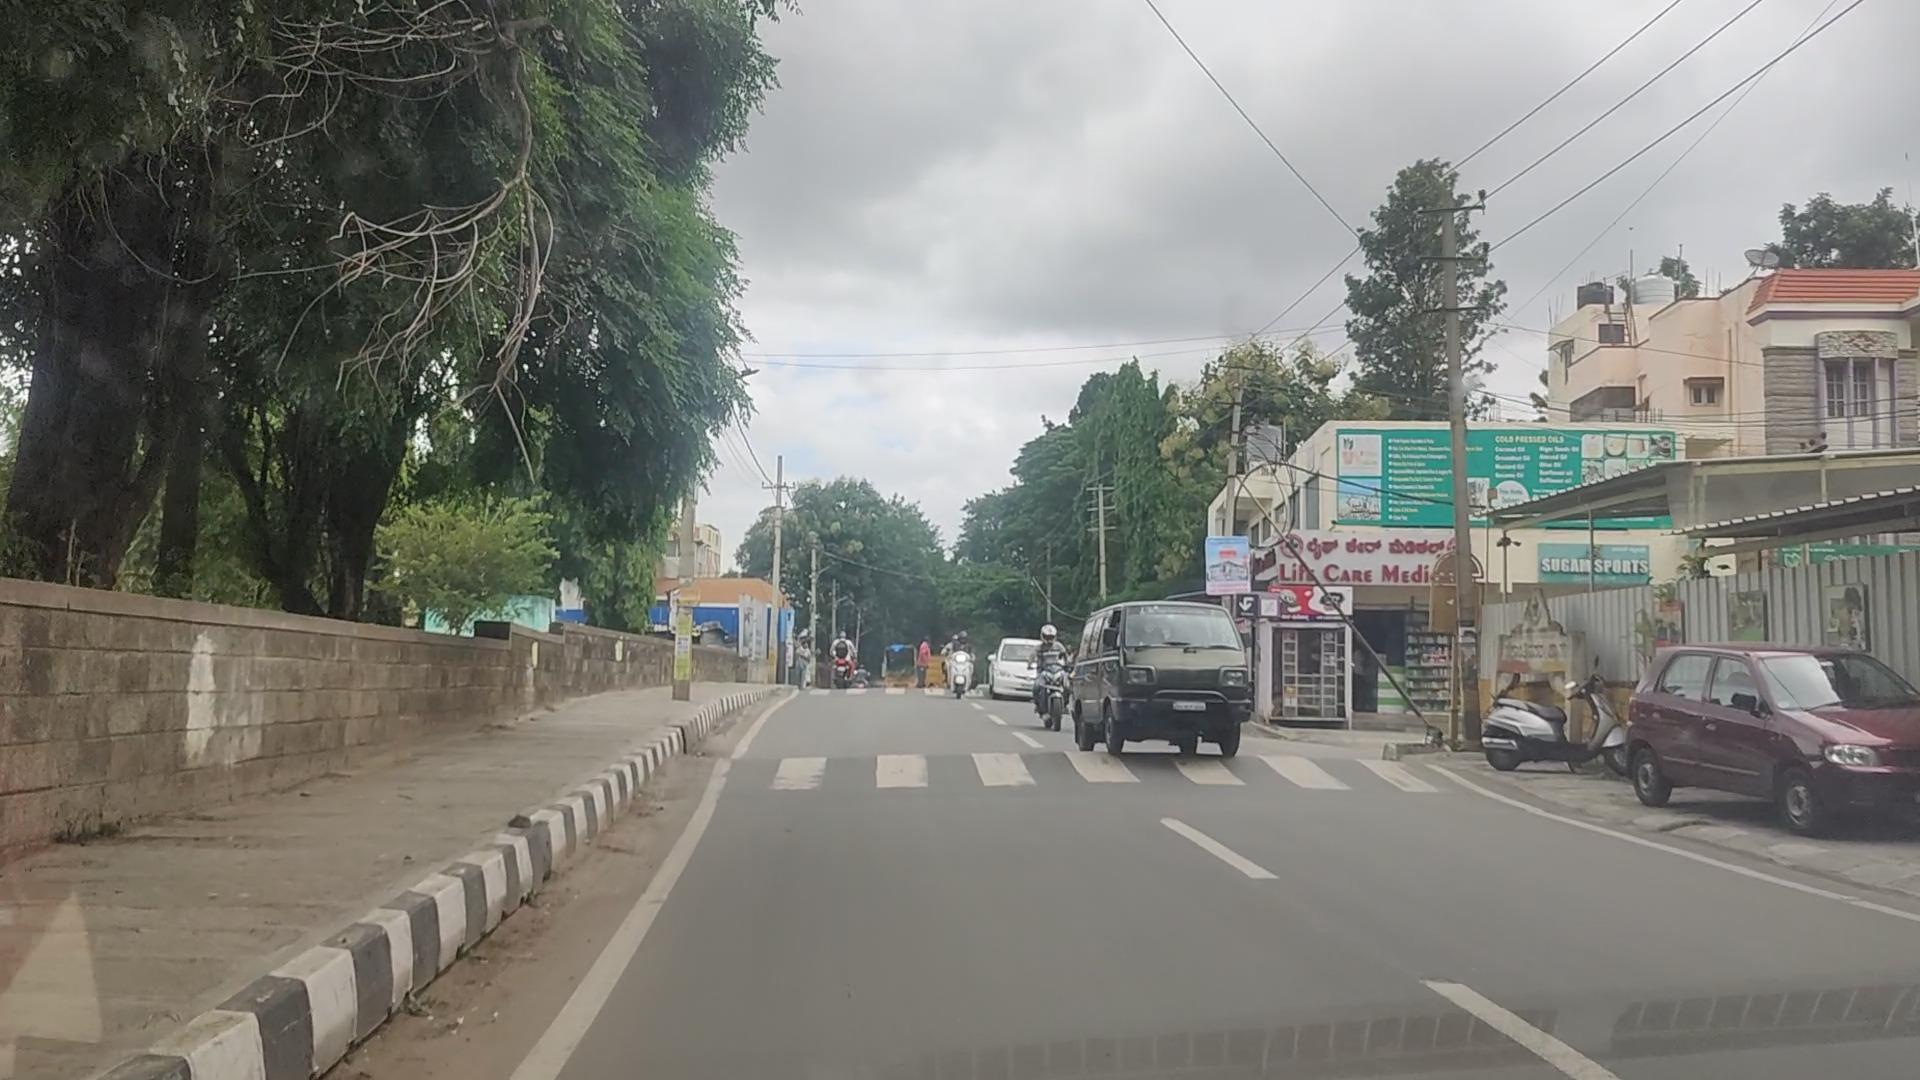LMV: (1068, 601, 1244, 746)
SpeedBump: (696, 740, 1431, 804)
